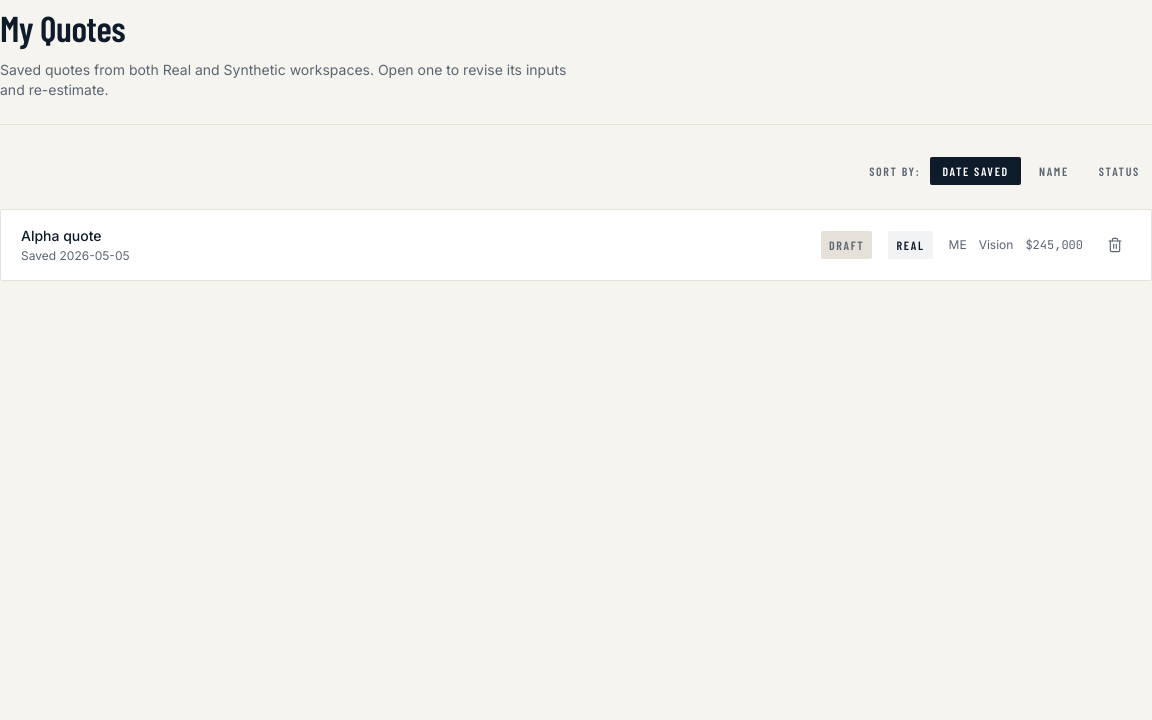
it: MyQuotesPage - delete flow › clicking a row's delete icon opens DeleteQuoteModal with the quote name
Click the button named "delete quote alpha quote" at (1115, 245), box [1099,229,1131,261]
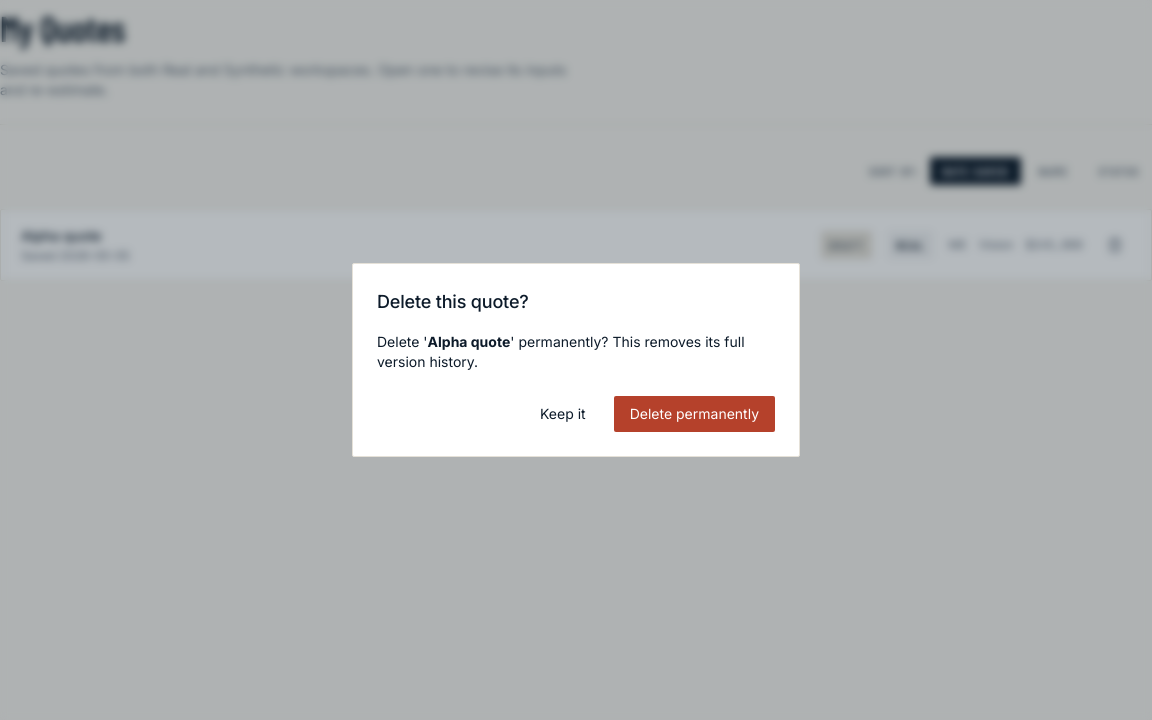
Expected: the dialog is shown, [352,263,800,457]
Expected: the text "Alpha quote" is shown, [428,333,510,350]
